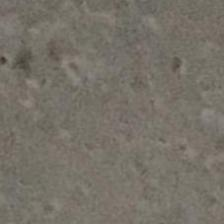Non_Crack: (9, 44, 215, 180)
